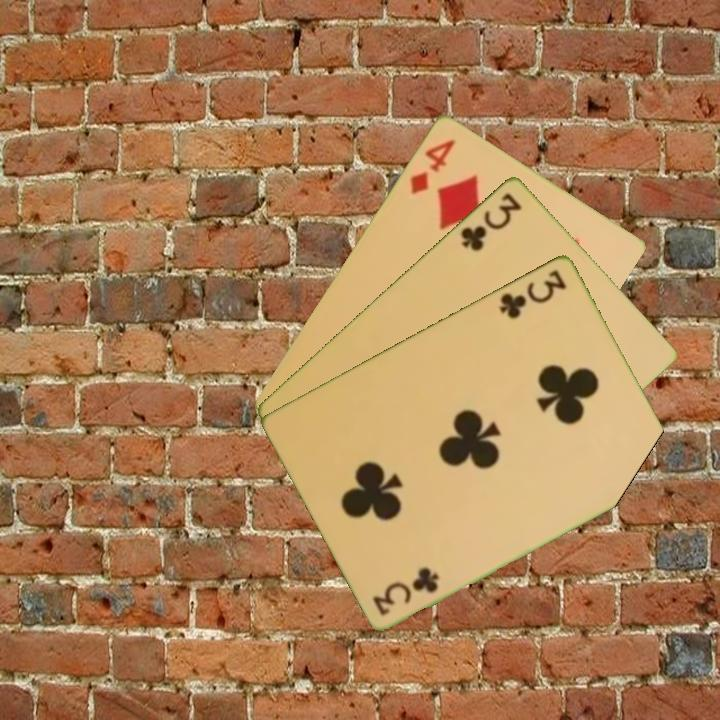3c: (457, 189, 525, 254), (495, 265, 570, 321), (369, 564, 443, 618)
4d: (406, 135, 458, 197)
